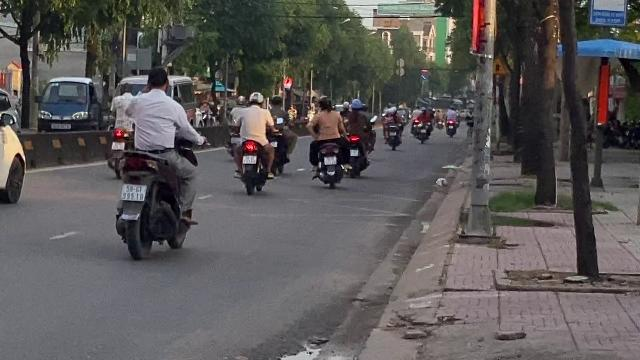helmet: (247, 90, 263, 105)
licenseplate: (120, 184, 146, 200), (244, 155, 256, 163)
motorcyclist: (111, 65, 202, 260), (231, 91, 275, 193)
nohelmet: (144, 66, 170, 92)
